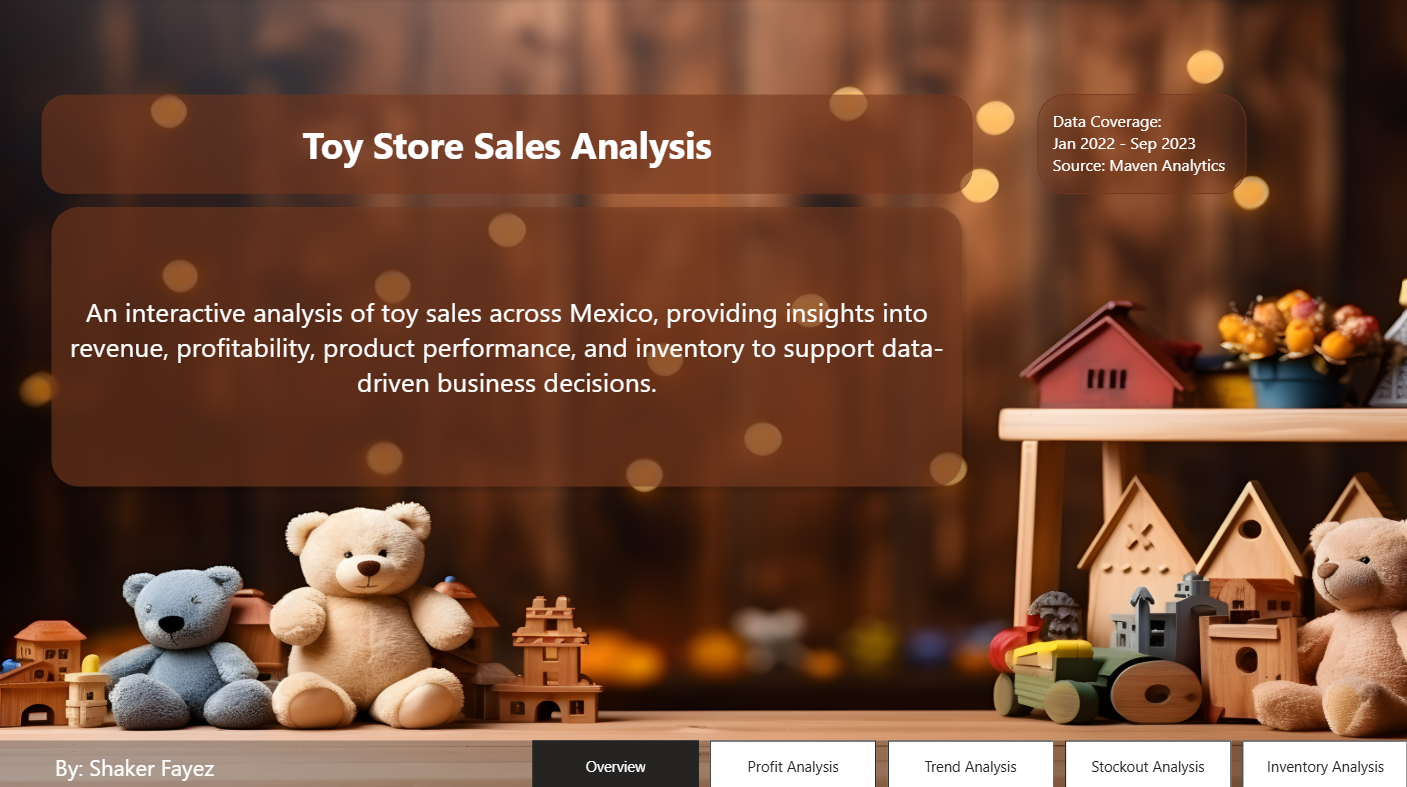

This screenshot's page, from the dashboard's own definition file:
{"tool":"powerbi","page":{"name":"Overview","canvas":[1280,720],"ordinal":0},"visuals":[{"type":"shape","box":[37.2,87.2,845.4,90.7],"z":0},{"type":"shape","box":[0,673.3,1280.2,46.5],"z":1000},{"type":"pageNavigator","box":[483.7,673.3,796.5,46.5],"z":2000},{"type":"textbox","box":[941.9,87.2,189.5,90.7],"z":3000},{"type":"shape","box":[37.4,180.3,845,272.2],"z":5000}]}

Visuals, with their boxes in screenshot pixels (x1, y1, x2, y2), scaled from the page's 1280x720 canvas onto the 1407x787 screenshot:
shape: BBox(41, 95, 970, 194)
shape: BBox(0, 736, 1406, 786)
pageNavigator: BBox(532, 736, 1406, 786)
textbox: BBox(1035, 95, 1244, 194)
shape: BBox(41, 197, 970, 495)
